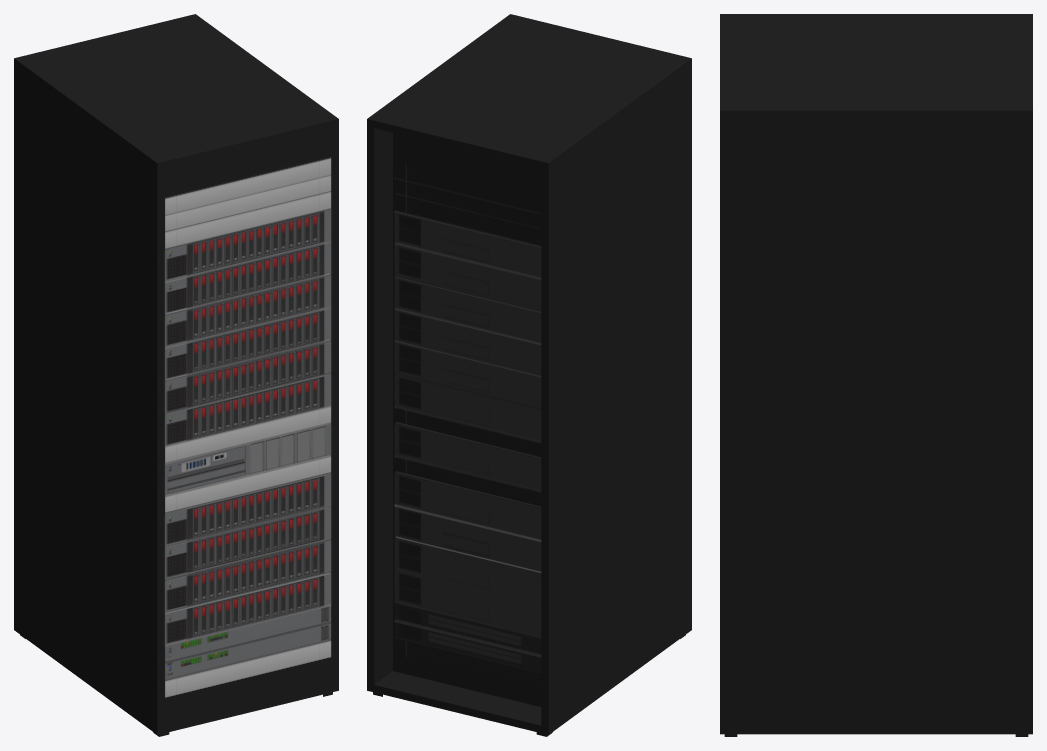
The model's file is server_object_transparent.gltf.
3 views of the same model, side by side, from view 1: azimuth 30°, elevation 25°; view 2: azimuth 150°, elevation 25°; view 3: azimuth 270°, elevation 25° (orthographic). The views are drawn at different scales.
Parts seen in each view (by area): view 1: Server; view 2: Server; view 3: Server.
Part boxes in pixels (x1,y1,x2,y2): Server: (14, 14, 338, 736); Server: (367, 14, 691, 736); Server: (720, 14, 1032, 736).
Size of the model in its own units: 0.864 by 2.62 by 1.18.
Materials: 1 (1 with a texture image).
